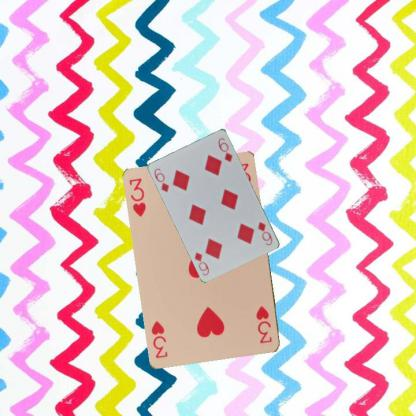3h: (126, 176, 148, 218), (254, 303, 274, 345)
6d: (255, 219, 274, 247), (152, 166, 170, 193)
